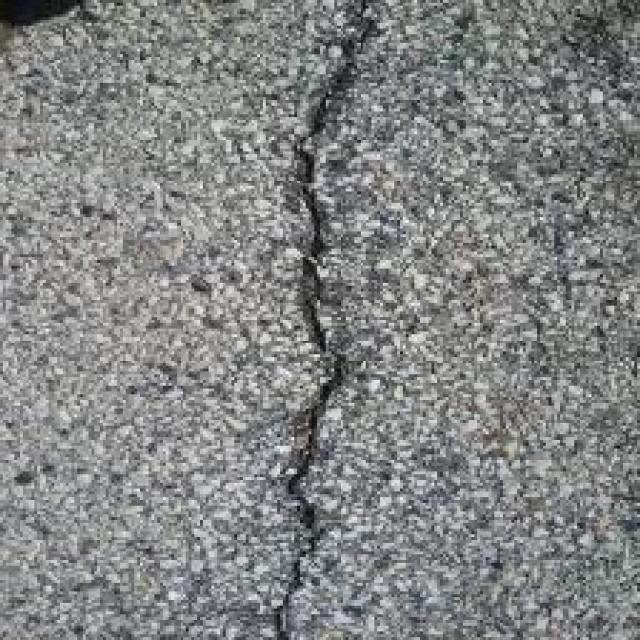crack: (244, 0, 392, 640)
